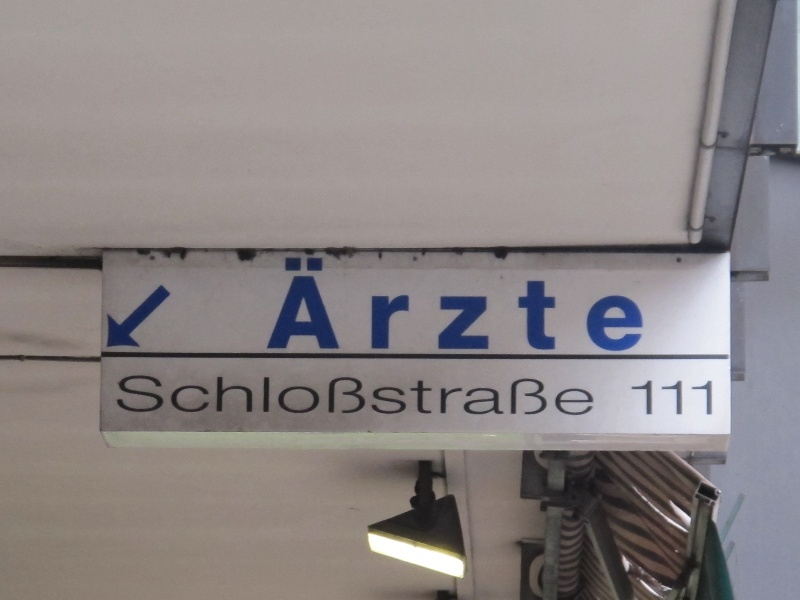text: (289, 256, 304, 353), (305, 256, 320, 353), (321, 256, 336, 353), (337, 256, 352, 353), (353, 256, 368, 353), (369, 256, 384, 353), (385, 256, 400, 353), (401, 256, 416, 353), (417, 256, 432, 353), (433, 256, 448, 353), (449, 256, 464, 353), (465, 256, 480, 353), (481, 256, 496, 353), (497, 256, 512, 353), (513, 256, 528, 353), (529, 256, 544, 353), (545, 256, 560, 353), (561, 256, 576, 353), (577, 256, 592, 353), (593, 256, 608, 353), (609, 256, 624, 353), (625, 256, 640, 353), (641, 256, 654, 353), (129, 375, 144, 420), (145, 375, 160, 420), (161, 375, 176, 420), (177, 375, 192, 420), (193, 375, 208, 420), (209, 375, 224, 420), (225, 375, 240, 420), (241, 375, 256, 420), (257, 375, 272, 420), (273, 375, 288, 420), (289, 375, 304, 420), (305, 375, 320, 420), (321, 375, 336, 420), (337, 375, 352, 420), (353, 375, 368, 420), (369, 375, 384, 420), (385, 375, 400, 420), (401, 375, 416, 420), (417, 375, 432, 420), (433, 375, 448, 420), (449, 375, 464, 420), (465, 375, 480, 420), (481, 375, 496, 420), (497, 375, 512, 420), (513, 375, 528, 420), (529, 375, 544, 420), (545, 375, 560, 420), (561, 375, 576, 420), (577, 375, 592, 420), (641, 377, 656, 420), (657, 377, 672, 420), (673, 377, 688, 420), (689, 377, 704, 420), (117, 375, 128, 420), (705, 377, 716, 420), (630, 377, 640, 420), (286, 256, 288, 353), (593, 375, 595, 420)
